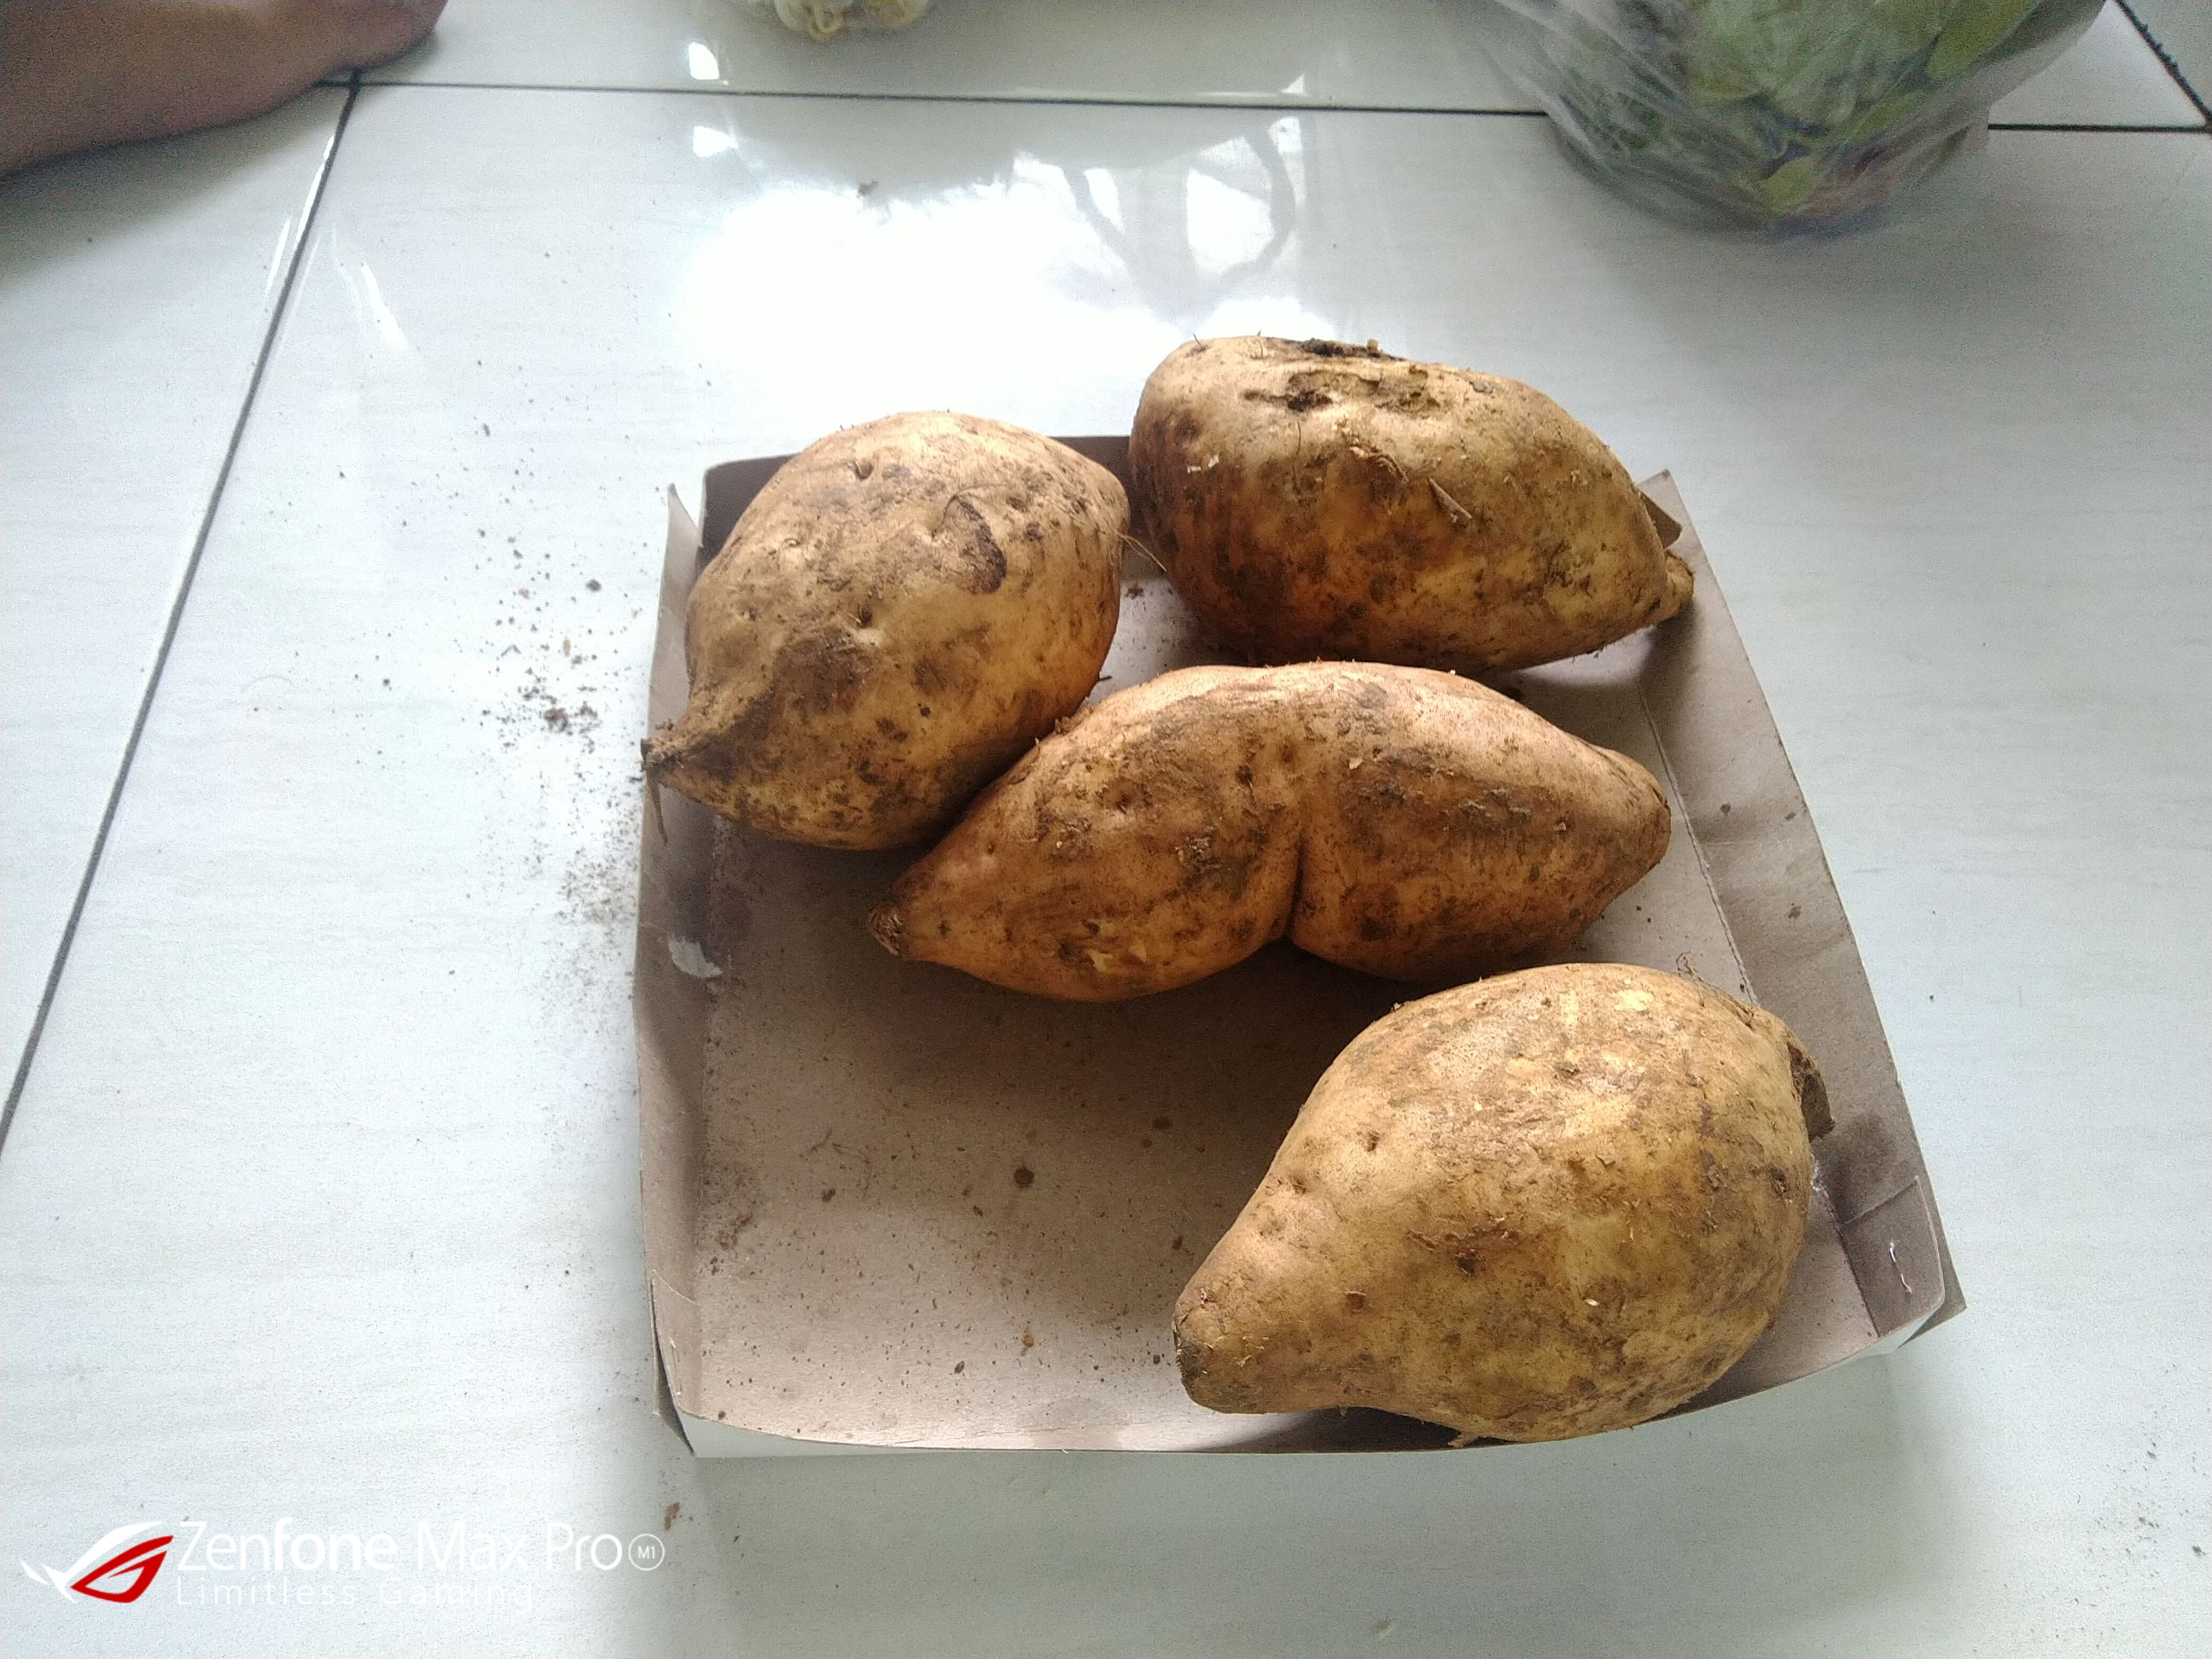ubi kuning: (1167, 957, 1848, 1450), (850, 650, 1686, 1002), (1111, 305, 1710, 673), (629, 411, 1130, 849)
